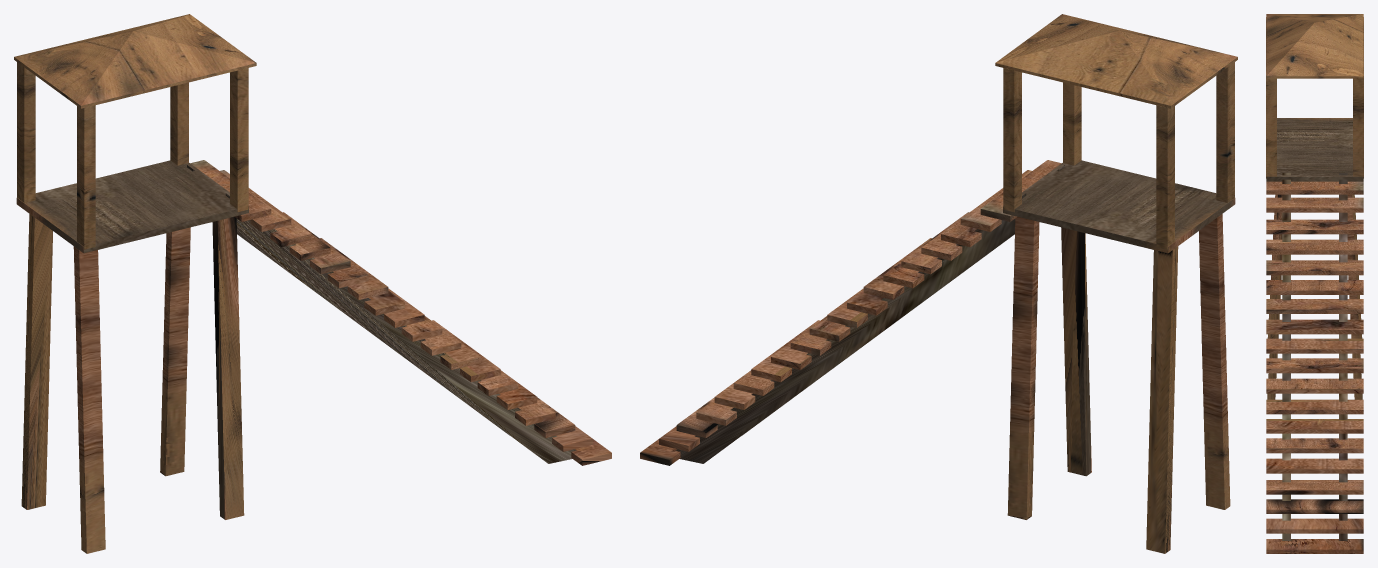
Rendered from Sniper_Tower.fbx.
The picture shows the model from 3 angles, left to right: view 1: azimuth 30°, elevation 25°; view 2: azimuth 150°, elevation 25°; view 3: azimuth 270°, elevation 25°; orthographic projection. The views are drawn at different scales.
Parts seen in each view (by area): view 1: Cube.003; view 2: Cube.003; view 3: Cube.003.
Boxes of the visible parts, x1,y1,x2,y2 form: Cube.003: [14, 14, 611, 553]; Cube.003: [640, 14, 1237, 553]; Cube.003: [1266, 14, 1363, 553].
Bounding box in the file's own units: 915 × 847 × 201.
Materials: 1 (1 with a texture image).
